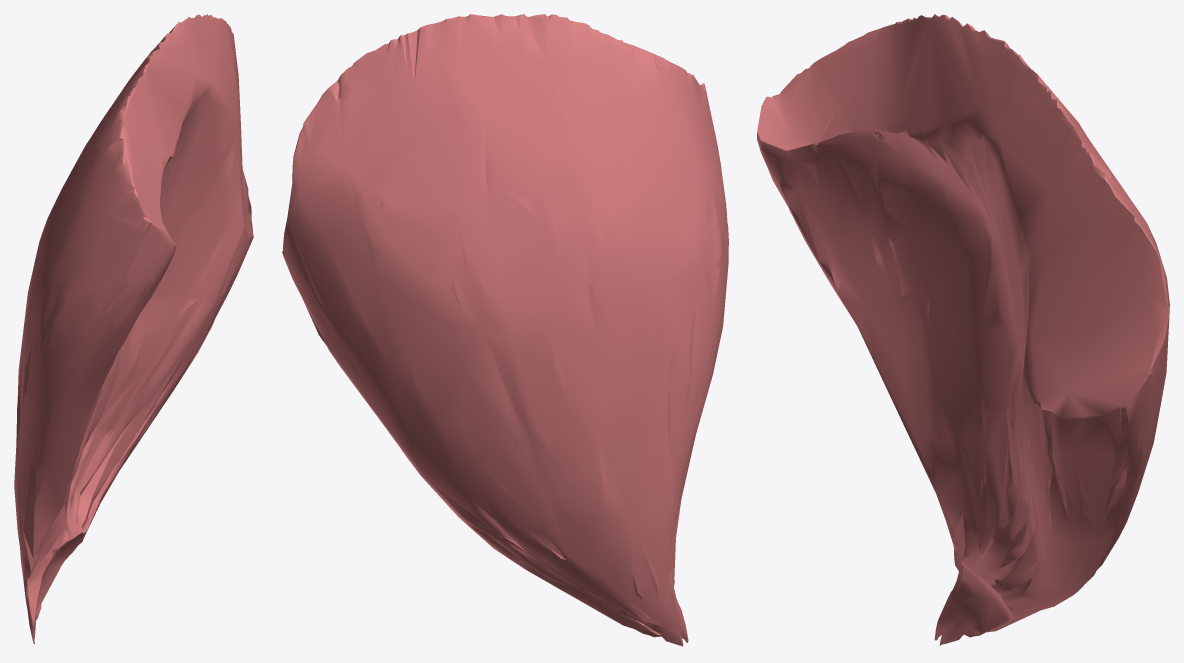
The picture shows the model from 3 angles, left to right: view 1: azimuth 30°, elevation 25°; view 2: azimuth 150°, elevation 25°; view 3: azimuth 270°, elevation 25°; orthographic projection. The views are drawn at different scales.
Visible parts, largest first — view 1: FJ1419; view 2: FJ1419; view 3: FJ1419.
Part boxes in pixels (x1=…): FJ1419: x1=14, y1=14, x2=253, y2=644; FJ1419: x1=282, y1=14, x2=728, y2=646; FJ1419: x1=757, y1=14, x2=1169, y2=645.
Size of the model in its own units: 0.0897 by 0.1613 by 0.0846.
